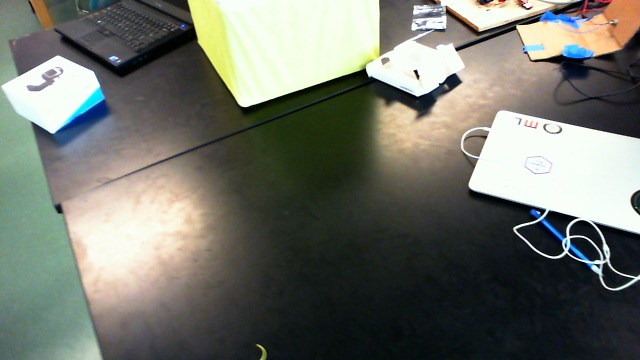cube: (184, 1, 383, 108)
